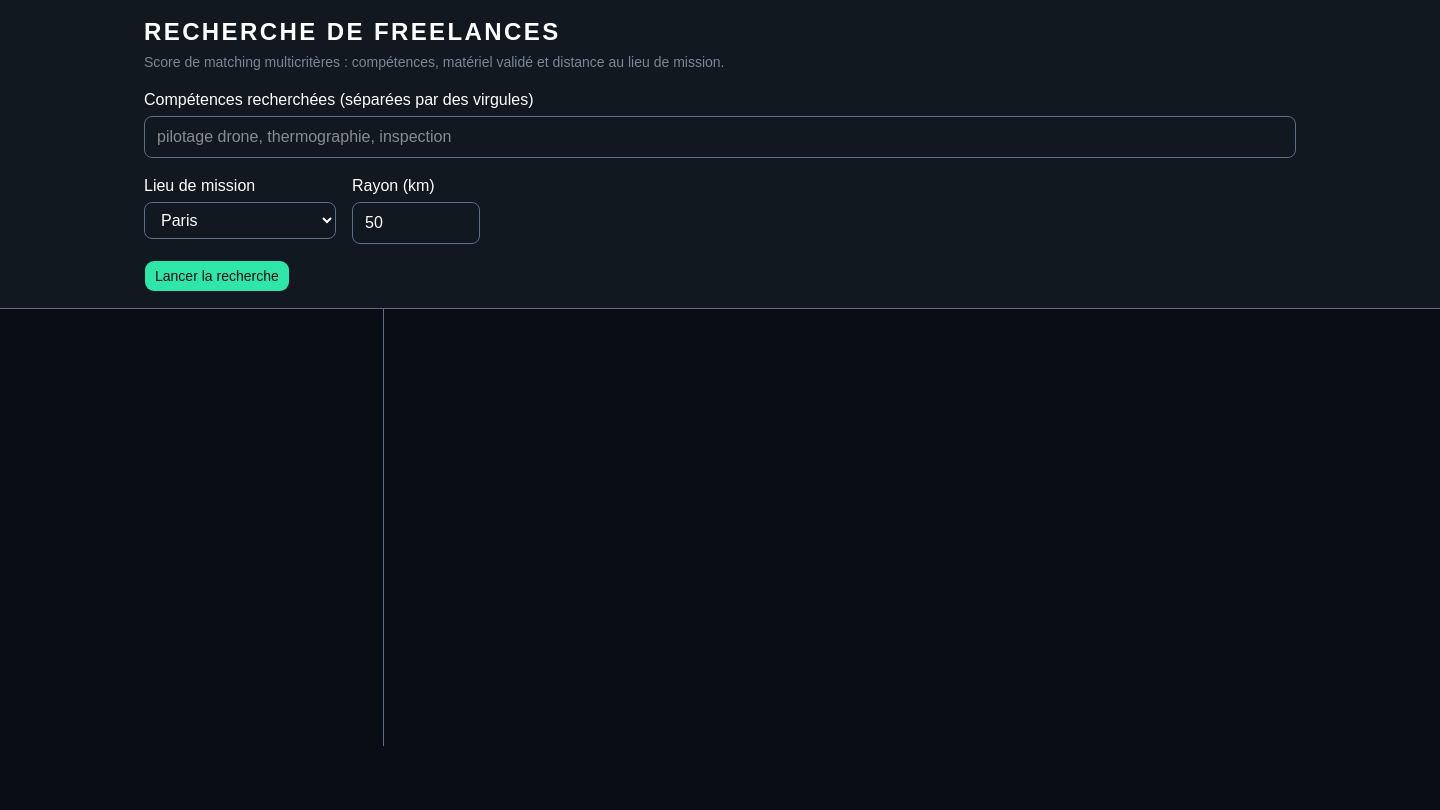
Test: Page Recherche de freelances (SH-22) › bloque la soumission côté client sans compétence — SANS appel réseau
Click the button "Lancer la recherche". click: (217, 276)
box: [144, 260, 290, 292]
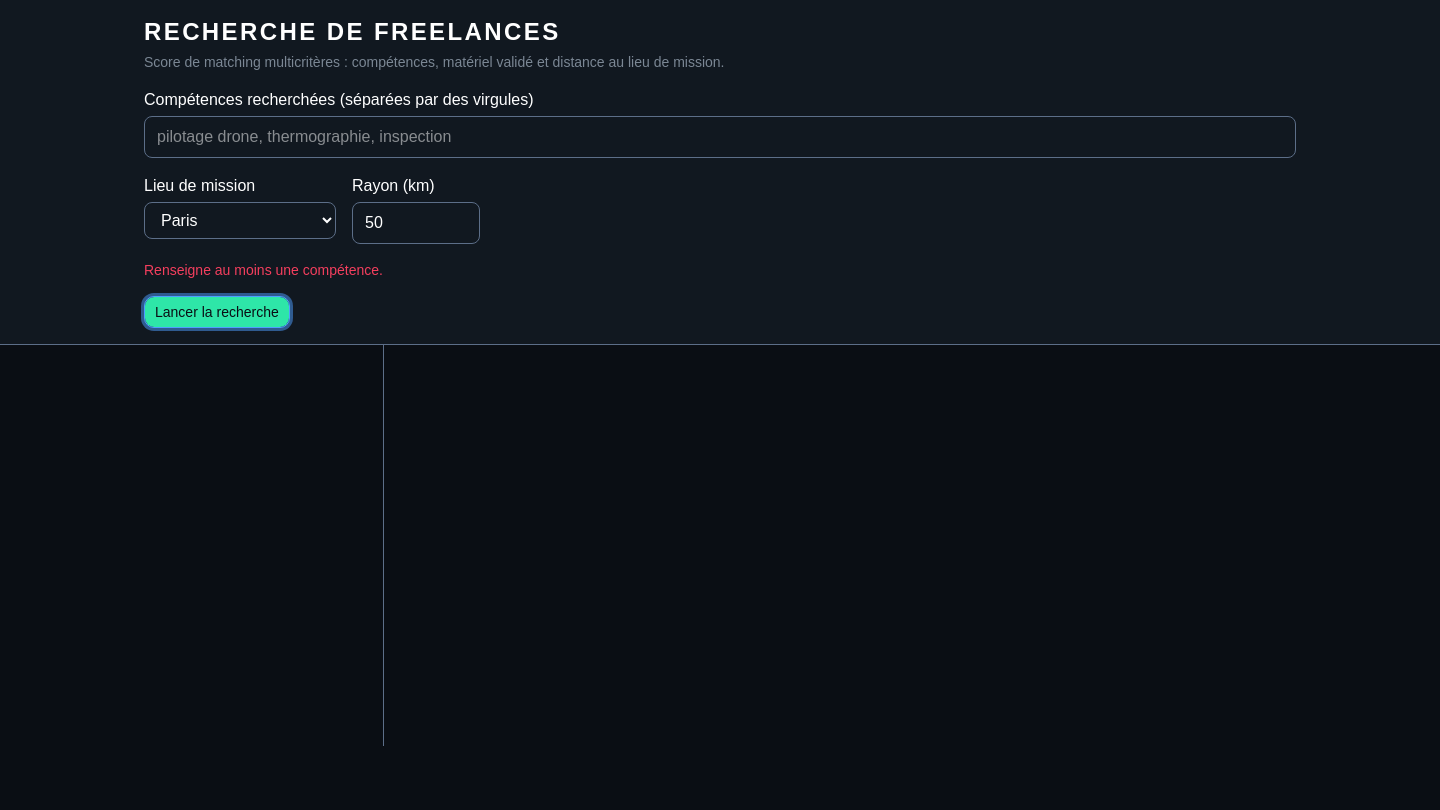
Check: the message reads "Renseigne au moins une compétence.", box [144, 262, 383, 278]
